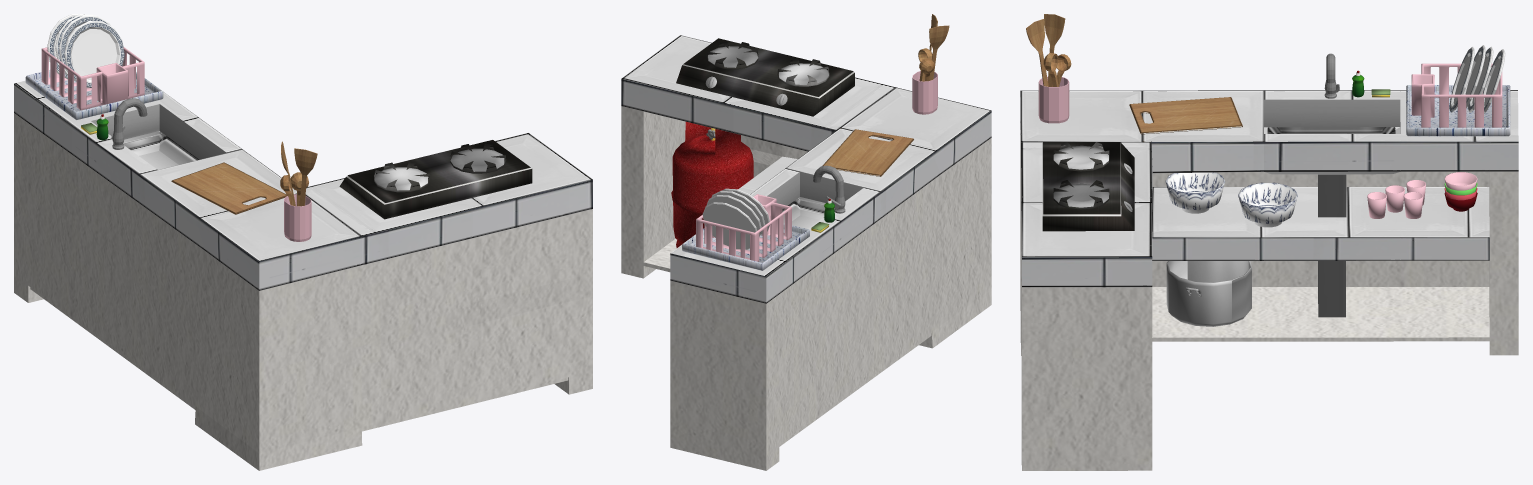
File: Kitchennn.fbx
3 renders of one model, left to right at view 1: azimuth 30°, elevation 25°; view 2: azimuth 150°, elevation 25°; view 3: azimuth 270°, elevation 25°, orthographic. The views are drawn at different scales.
Visible parts, largest first — view 1: counter, Kalan, drainPan, chopping board, plate.002, toolsCup, spatula; view 2: counter, Kalan, GasTank, drainPan, chopping board, plate, toolsCup, plate.001, spatula.001; view 3: counter, Kalan, drainPan, pot.003, chopping board, BigBowl, BigBowl2, toolsCup, plate.002, spatula, plate, spatula.001 (+2 smaller).
Boxes of the visible parts, left/top/right/bottom form: counter: left=14, top=80, right=592, bottom=470; Kalan: left=339, top=140, right=532, bottom=219; drainPan: left=25, top=47, right=163, bottom=119; chopping board: left=171, top=162, right=287, bottom=214; plate.002: left=64, top=21, right=124, bottom=87; toolsCup: left=284, top=194, right=311, bottom=241; spatula: left=294, top=148, right=317, bottom=206; counter: left=621, top=35, right=991, bottom=470; Kalan: left=676, top=38, right=854, bottom=116; GasTank: left=671, top=121, right=753, bottom=247; drainPan: left=682, top=194, right=809, bottom=270; chopping board: left=822, top=129, right=913, bottom=176; plate: left=702, top=202, right=756, bottom=249; toolsCup: left=912, top=71, right=937, bottom=114; plate.001: left=706, top=195, right=761, bottom=236; spatula.001: left=929, top=25, right=949, bottom=80; counter: left=1020, top=53, right=1518, bottom=470; Kalan: left=1042, top=142, right=1134, bottom=231; drainPan: left=1406, top=63, right=1510, bottom=136; pot.003: left=1166, top=261, right=1251, bottom=326; chopping board: left=1129, top=97, right=1242, bottom=134; BigBowl: left=1238, top=182, right=1297, bottom=227; BigBowl2: left=1165, top=172, right=1225, bottom=213; toolsCup: left=1038, top=76, right=1069, bottom=123; plate.002: left=1449, top=46, right=1474, bottom=112; spatula: left=1026, top=19, right=1048, bottom=86; plate: left=1482, top=49, right=1505, bottom=113; spatula.001: left=1044, top=14, right=1065, bottom=86.
Size of the model in its own units: 5614 by 4842 by 7069.
Materials: 18 (16 with a texture image).
